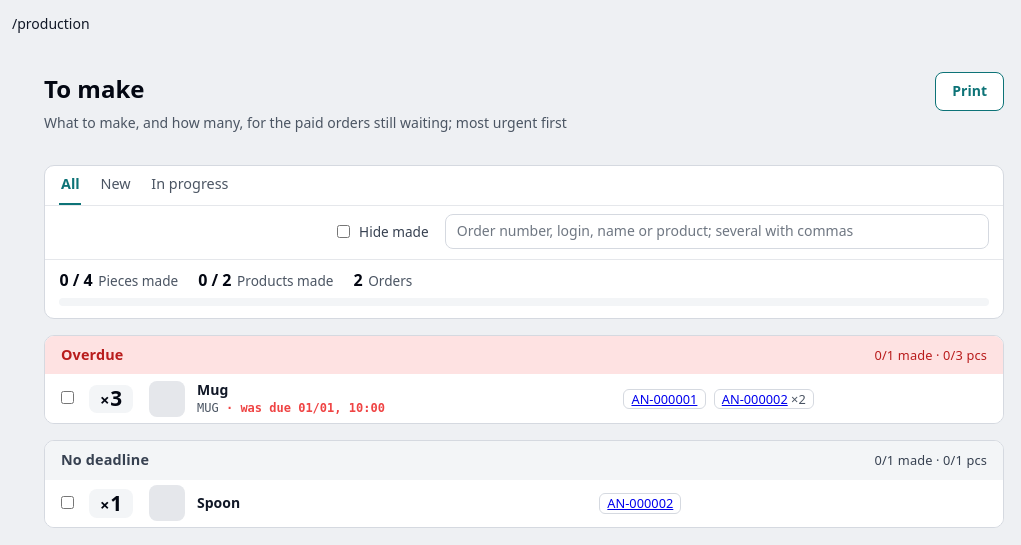
narrowing the to-make list › offers the statuses an order to make can be in, and asks for the one chosen
Click the button "In progress" at [190, 185], box [150,166,230,205]
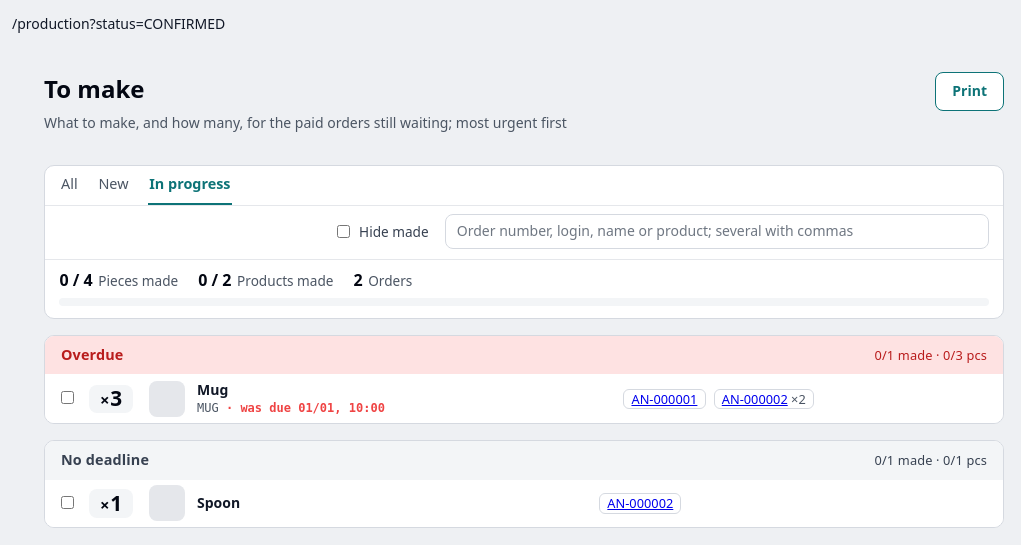
Expected: the text with test id "where" reads "/production?status=CONFIRMED", [12,14,225,33]
